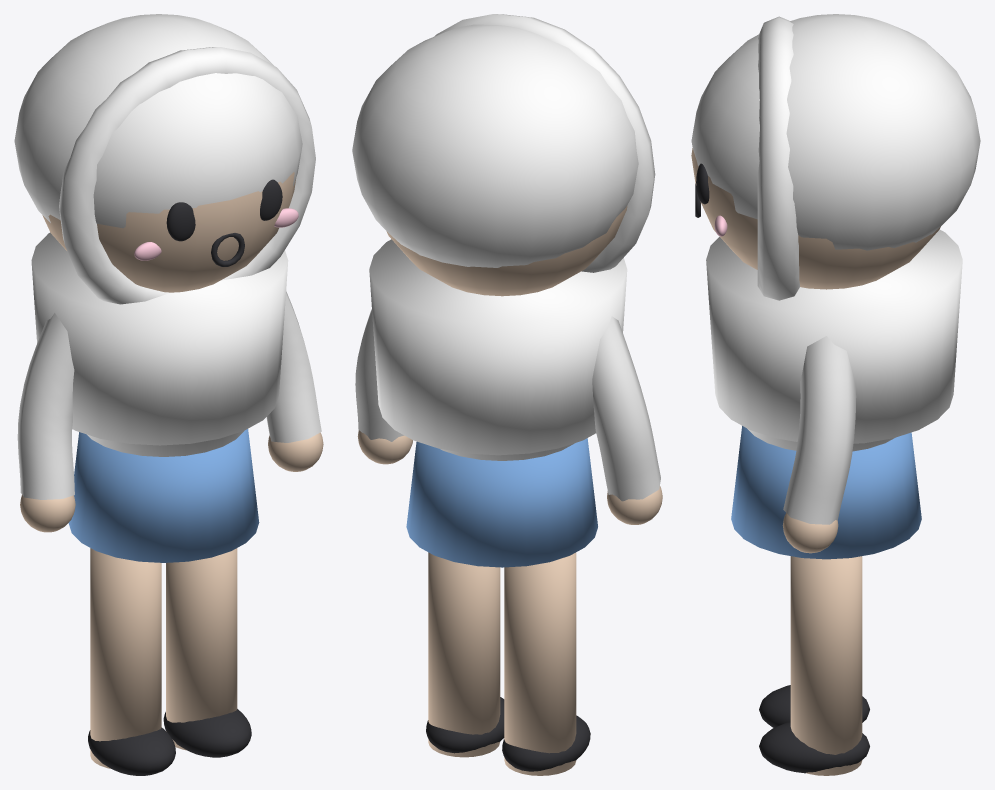
File: kid_girl.glb
The picture shows the model from 3 angles, left to right: view 1: azimuth 30°, elevation 25°; view 2: azimuth 150°, elevation 25°; view 3: azimuth 270°, elevation 25°; orthographic projection.
Parts seen in each view (by area): view 1: kid_hair, kid_tudung_drape, kid_bottom, kid_tudung_frame, kid_leg_l, kid_leg_r, kid_head, kid_arm_l, kid_arm_r, kid_shoe_r, kid_shoe_l, kid_hand_l (+5 smaller); view 2: kid_hair, kid_tudung_drape, kid_bottom, kid_leg_l, kid_leg_r, kid_arm_l, kid_tudung_frame, kid_head, kid_arm_r, kid_shoe_l, kid_shoe_r, kid_hand_l (+2 smaller); view 3: kid_hair, kid_tudung_drape, kid_bottom, kid_leg_r, kid_tudung_frame, kid_arm_r, kid_head, kid_shoe_r, kid_hand_r, kid_shoe_l, kid_torso.
Boxes of the visible parts, bbox=[...] form: kid_hair: bbox=[14, 14, 302, 228]; kid_tudung_drape: bbox=[31, 232, 288, 445]; kid_bottom: bbox=[68, 429, 259, 562]; kid_tudung_frame: bbox=[59, 47, 315, 304]; kid_leg_l: bbox=[90, 548, 161, 768]; kid_leg_r: bbox=[166, 548, 237, 750]; kid_head: bbox=[42, 172, 296, 292]; kid_arm_l: bbox=[17, 313, 74, 499]; kid_arm_r: bbox=[266, 291, 321, 442]; kid_shoe_r: bbox=[163, 709, 251, 757]; kid_shoe_l: bbox=[88, 727, 175, 775]; kid_hand_l: bbox=[20, 495, 75, 532]; kid_hair: bbox=[352, 24, 638, 267]; kid_tudung_drape: bbox=[369, 239, 627, 455]; kid_bottom: bbox=[406, 438, 597, 567]; kid_leg_l: bbox=[504, 552, 576, 775]; kid_leg_r: bbox=[428, 552, 500, 757]; kid_arm_l: bbox=[592, 316, 660, 501]; kid_tudung_frame: bbox=[434, 14, 655, 272]; kid_head: bbox=[386, 205, 627, 296]; kid_arm_r: bbox=[355, 309, 404, 441]; kid_shoe_l: bbox=[502, 715, 590, 771]; kid_shoe_r: bbox=[426, 697, 504, 753]; kid_hand_l: bbox=[607, 486, 662, 524]; kid_hair: bbox=[691, 14, 980, 250]; kid_tudung_drape: bbox=[706, 229, 962, 443]; kid_bottom: bbox=[731, 426, 921, 559]; kid_leg_r: bbox=[790, 556, 862, 775]; kid_tudung_frame: bbox=[757, 16, 799, 300]; kid_arm_r: bbox=[783, 336, 856, 524]; kid_head: bbox=[691, 148, 940, 289]; kid_shoe_r: bbox=[759, 722, 869, 773]; kid_hand_r: bbox=[782, 513, 838, 553]; kid_shoe_l: bbox=[759, 685, 869, 727]; kid_torso: bbox=[747, 428, 894, 451].
Bounding box in the file's own units: 0.4945 × 1.15 × 0.4185.
